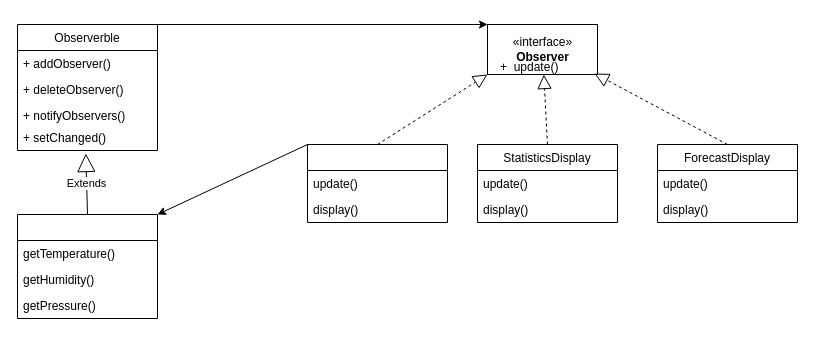
This 815x339 diagram has some shape labels left out. The shapes that lost their labels are listed below. From the top down, each one's box as (x1, y1, x2, y2) in pixels, then its label:
(306, 144, 448, 222): GeneralDisplay
(16, 214, 158, 318): WeatherData
